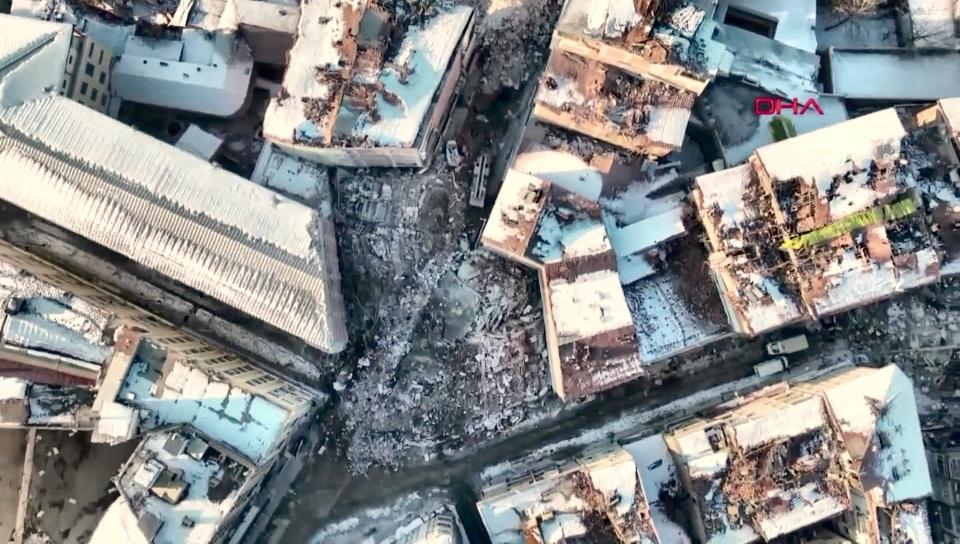kapali: (304, 125, 500, 487), (804, 275, 959, 356), (467, 0, 555, 132)
